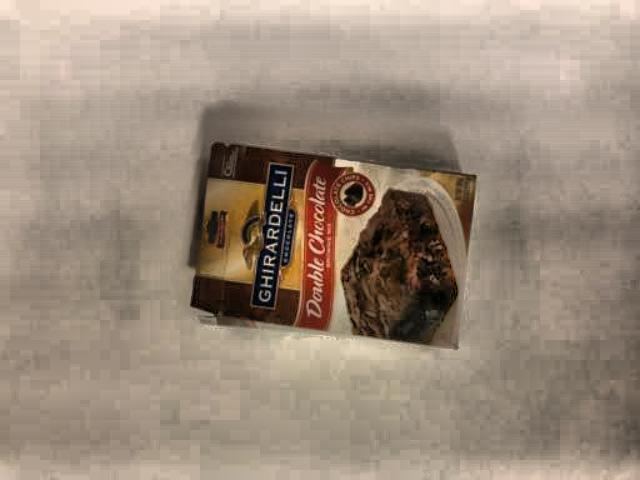Paper: (188, 128, 474, 374)
